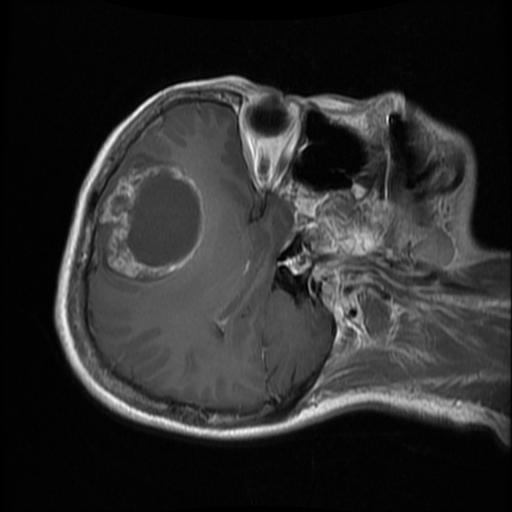glioma: (98, 159, 208, 284)
